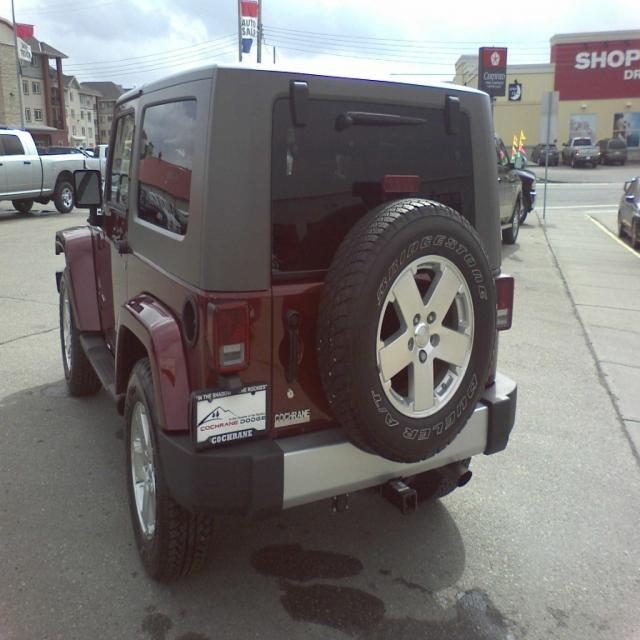car: (53, 57, 518, 549), (599, 136, 630, 172), (528, 134, 556, 169)
pickup-van: (0, 118, 88, 219), (559, 132, 599, 172)
